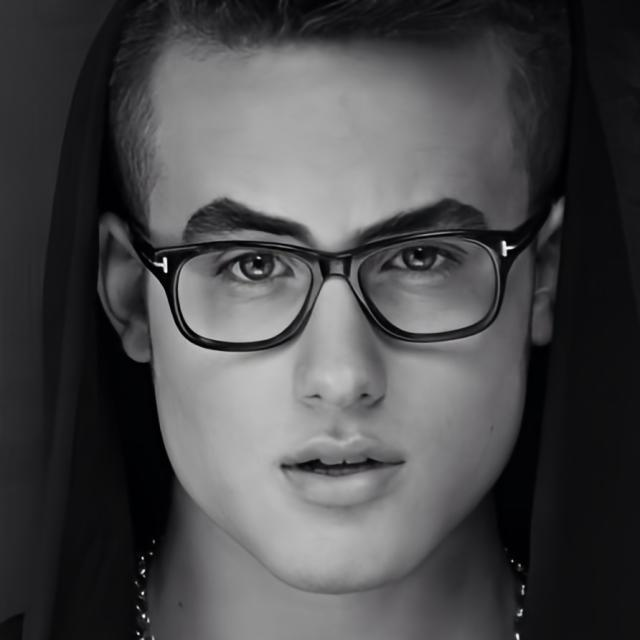neutral: (146, 18, 538, 596)
